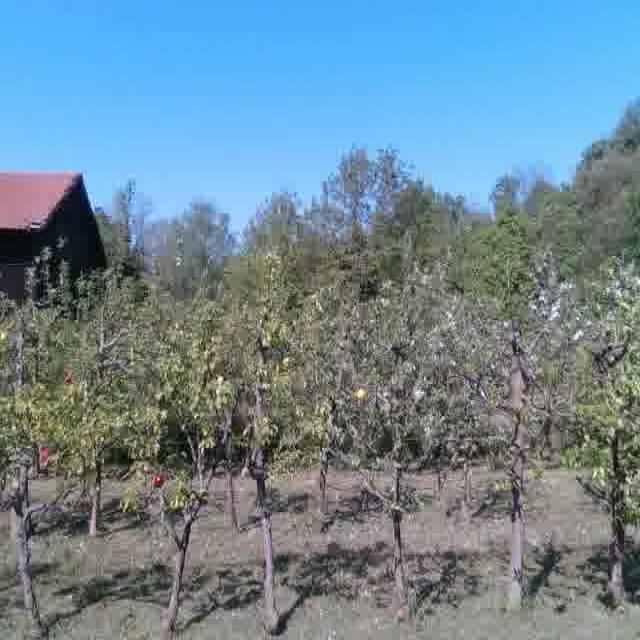red: (151, 469, 167, 490), (37, 443, 50, 464)
yellow: (353, 383, 368, 405)
